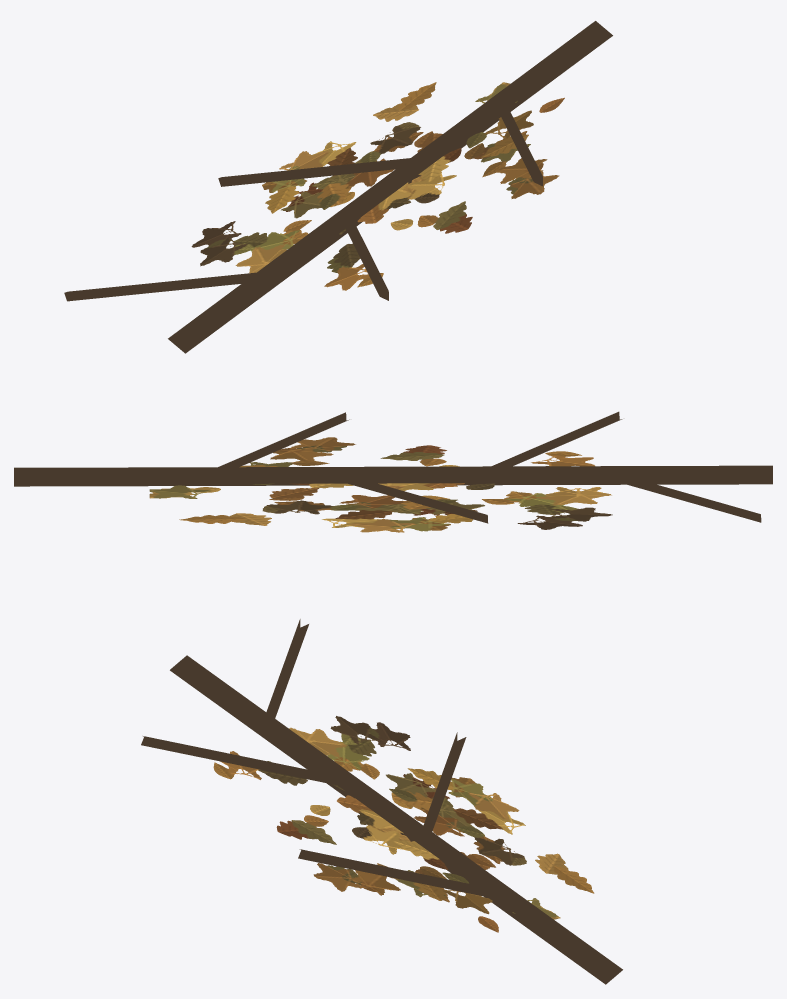
The model's file is Ground Twigs.glb.
The picture shows the model from 3 angles, top to bottom: view 1: azimuth 30°, elevation 25°; view 2: azimuth 150°, elevation 25°; view 3: azimuth 270°, elevation 25°; orthographic projection. The views are drawn at different scales.
Visible parts, largest first — view 1: Ground Twigs; view 2: Ground Twigs; view 3: Ground Twigs.
Part boxes in pixels (<box>): Ground Twigs: <box>64,21,612,353</box>; Ground Twigs: <box>14,411,772,532</box>; Ground Twigs: <box>141,619,622,984</box>.
Size of the model in its own units: 1.31 by 0.0477 by 1.23.
1 material, 1 textured.
